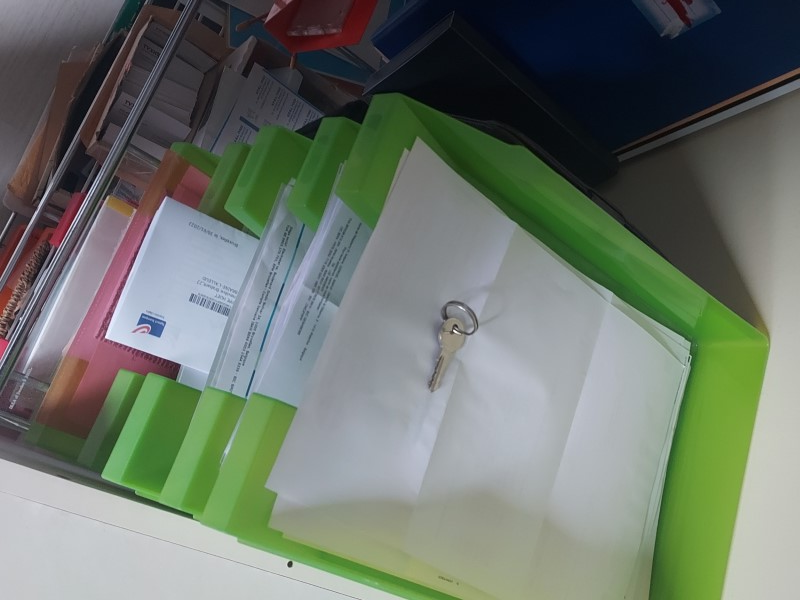key: (422, 314, 470, 391)
